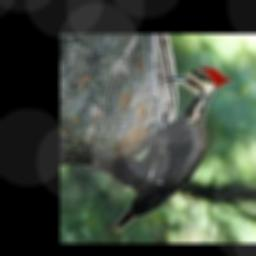Woodpecker: (112, 67, 232, 231)
